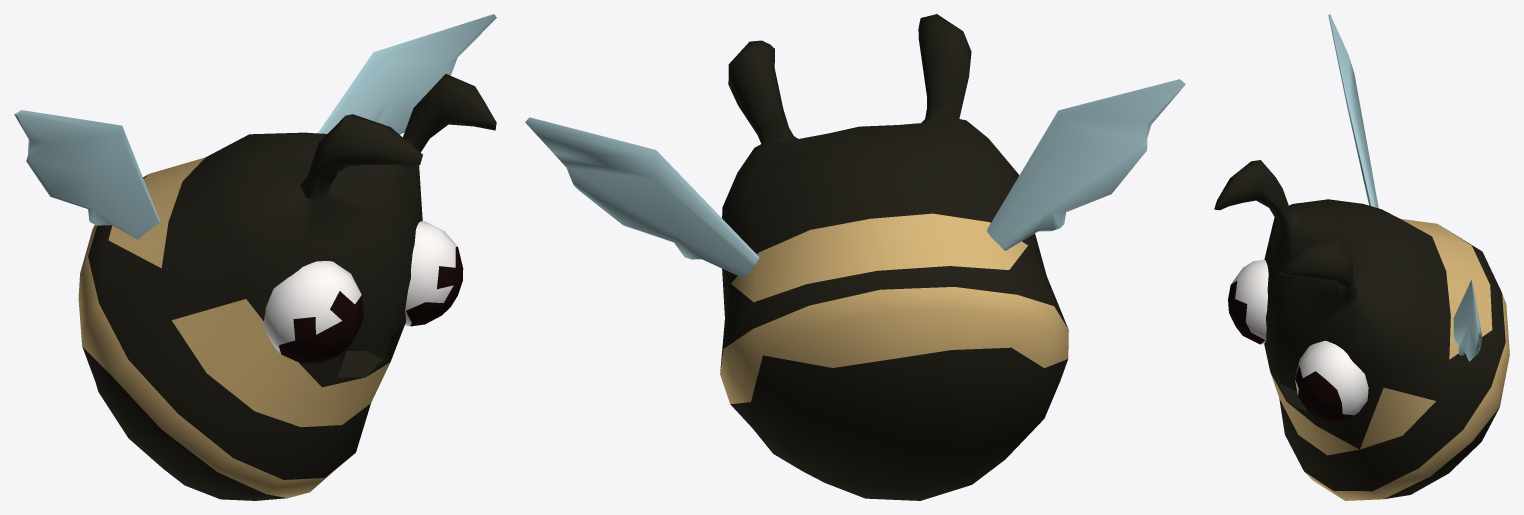
Rendered from bee.glb.
3 views of the same model, side by side, from view 1: azimuth 30°, elevation 25°; view 2: azimuth 150°, elevation 25°; view 3: azimuth 270°, elevation 25° (orthographic). The views are drawn at different scales.
Visible parts, largest first — view 1: Bee; view 2: Bee; view 3: Bee.
Part boxes in pixels (left/top/right/bottom): Bee: left=14, top=14, right=496, bottom=500; Bee: left=525, top=14, right=1185, bottom=500; Bee: left=1214, top=14, right=1509, bottom=500.
Bounding box in the file's own units: 0.2402 × 0.1845 × 0.1328.
Materials: 2 (2 with a texture image).
